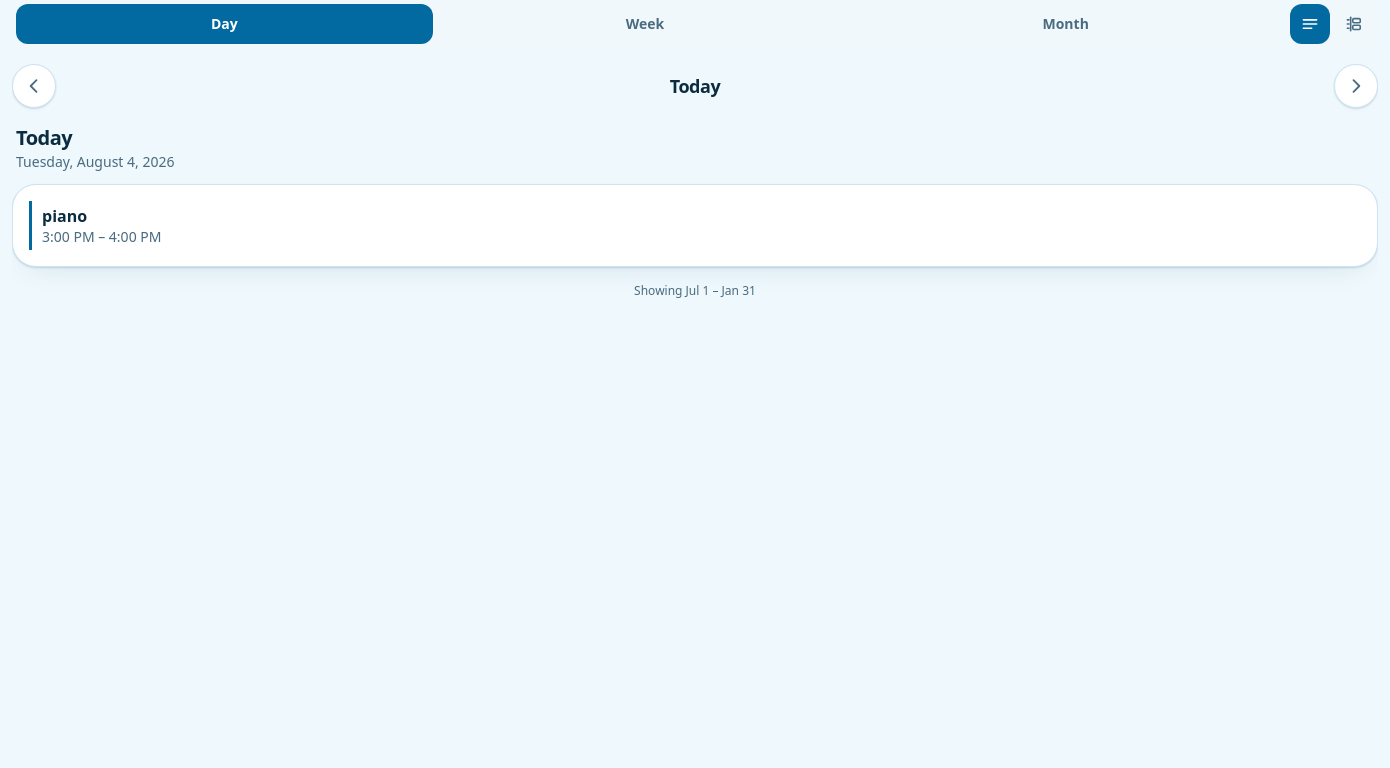
Test case: the list / timeline toggle › switches the day to the hour grid
The image size is (1390, 768).
Click the button named "Timeline view" at (1354, 24), box [1334,4,1374,44]
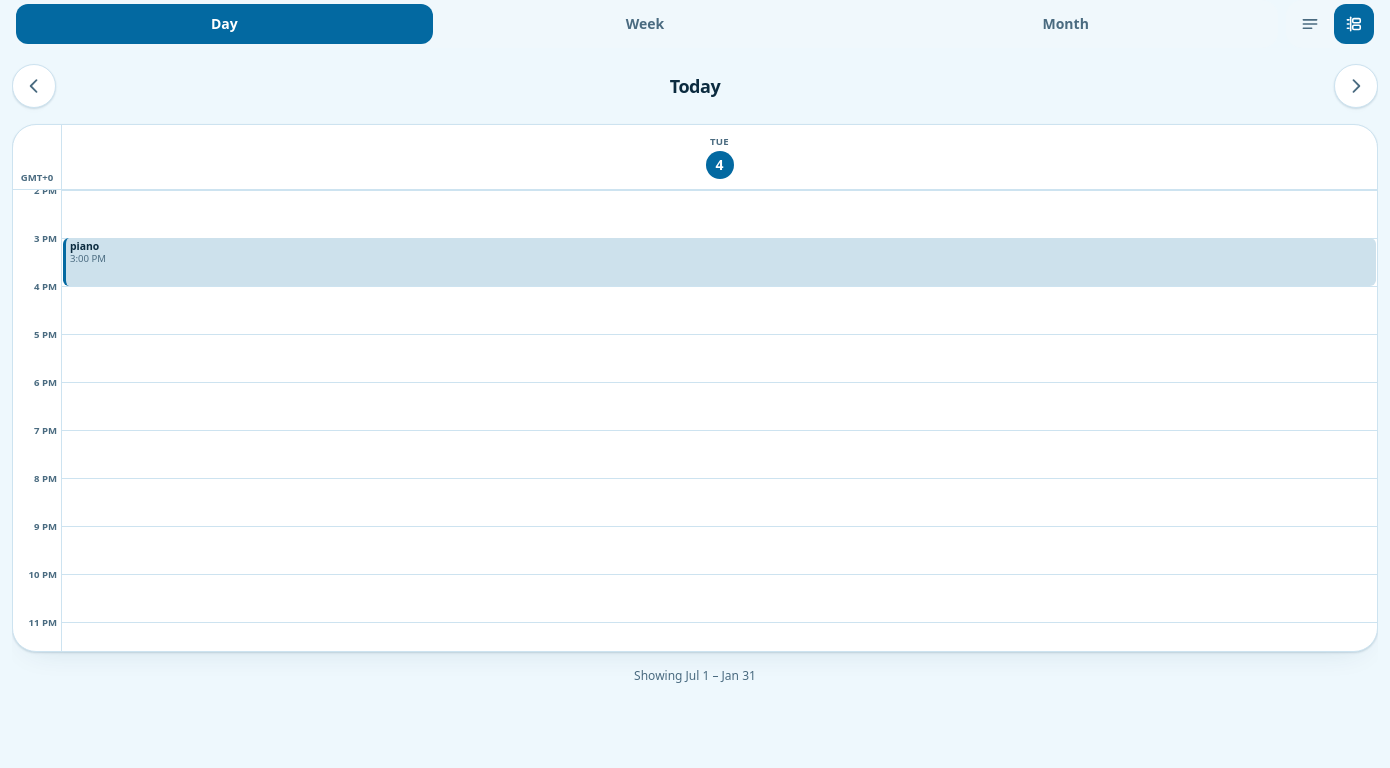
Result: the element named "This day, by time" is shown
